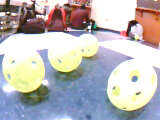Ball: (106, 58, 158, 110), (3, 45, 45, 92), (47, 35, 84, 75), (80, 34, 97, 58)
